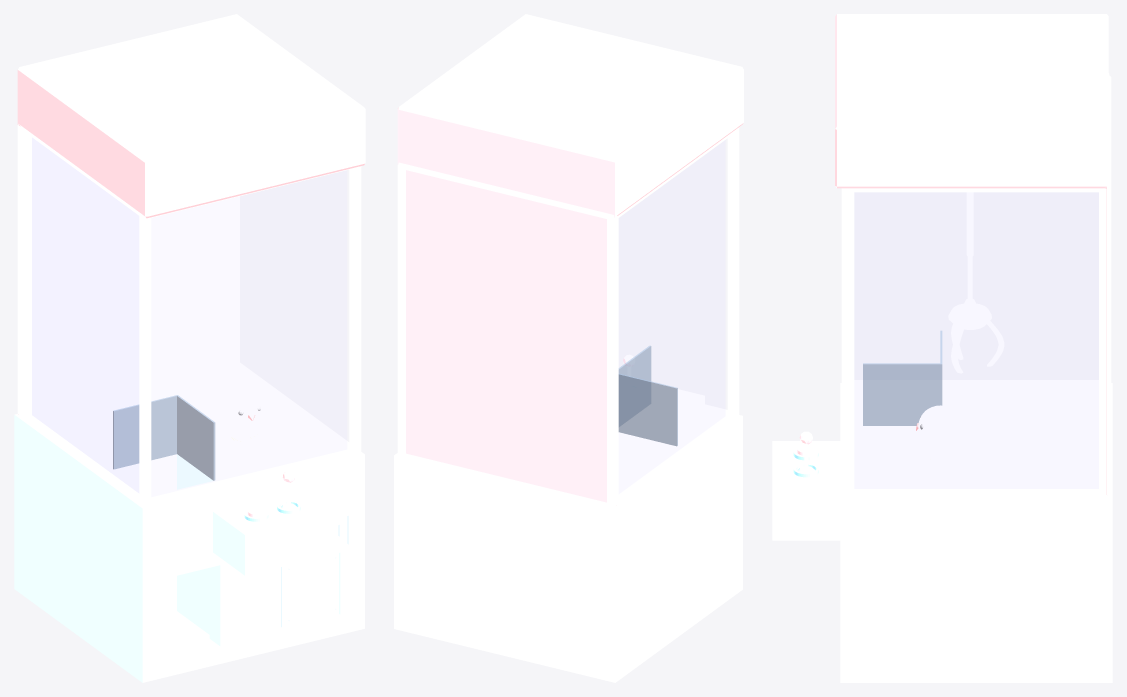
Rendered from bird_in_a_claw_machine.glb.
The picture shows the model from 3 angles, left to right: view 1: azimuth 30°, elevation 25°; view 2: azimuth 150°, elevation 25°; view 3: azimuth 270°, elevation 25°; orthographic projection. The views are drawn at different scales.
Visible parts, largest first — view 1: Cube.003_9, Cube_6, Cube.012_19, Cylinder.001_15, Cube.010_0, Cube.009_5; view 2: Cube.003_9, Cube_6, Cube.012_19; view 3: Cube_6, Cube.003_9, Cube.012_19, Cylinder.001_15, Cube.010_0, Cube.009_5, Cylinder_11.
Part boxes in pixels (box(x1,y1,x2,y2)): Cube.003_9: box(17, 14, 365, 414); Cube_6: box(14, 367, 364, 682); Cube.012_19: box(18, 125, 361, 506); Cylinder.001_15: box(171, 263, 213, 332); Cube.010_0: box(219, 388, 262, 418); Cube.009_5: box(215, 401, 264, 438); Cube.003_9: box(397, 14, 743, 505); Cube_6: box(394, 345, 742, 682); Cube.012_19: box(397, 127, 739, 507); Cube_6: box(772, 330, 1112, 682); Cube.003_9: box(835, 14, 1108, 494); Cube.012_19: box(841, 73, 1111, 497); Cylinder.001_15: box(948, 256, 991, 329); Cube.010_0: box(918, 405, 961, 436); Cube.009_5: box(915, 418, 970, 459); Cylinder_11: box(966, 192, 973, 256).
Size of the model in its own units: 4 by 9 by 5.
